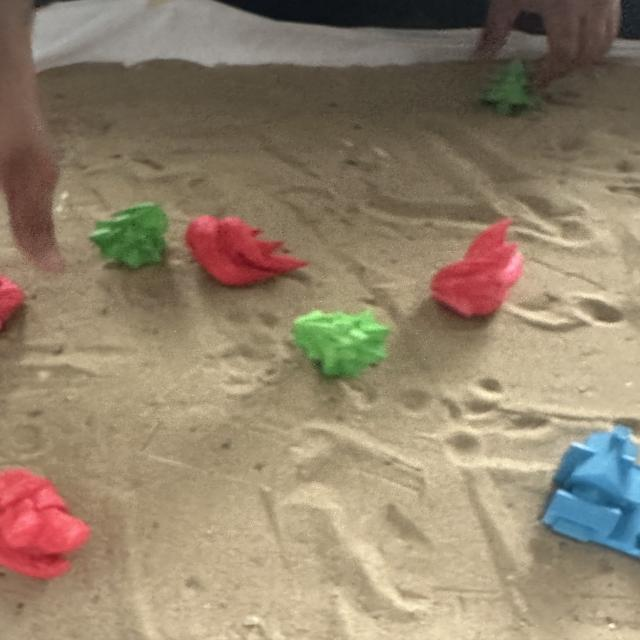fire: (426, 216, 527, 320), (2, 467, 92, 580), (185, 216, 310, 286), (0, 268, 23, 333)
house: (536, 422, 637, 560)
tree: (290, 310, 388, 379), (89, 202, 167, 268)
